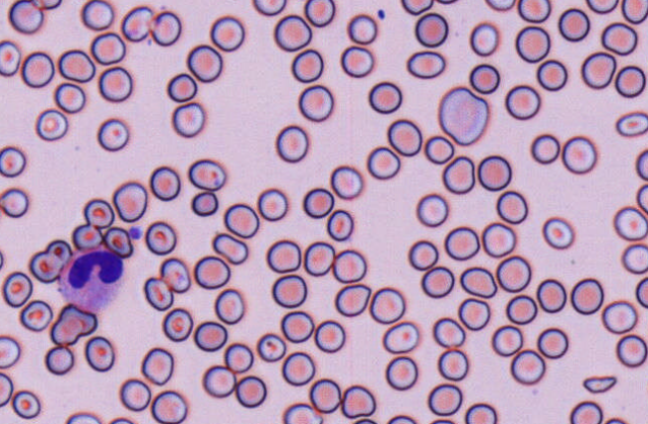GRAN: (56, 249, 122, 309)
PLT: (128, 223, 145, 240), (376, 9, 386, 20)
RBC: (438, 86, 488, 145), (112, 181, 147, 222), (273, 14, 311, 51), (561, 135, 597, 174), (369, 286, 405, 324), (580, 51, 616, 89), (186, 44, 222, 82), (387, 118, 422, 156), (209, 15, 245, 51), (504, 84, 540, 120), (223, 202, 259, 238), (515, 25, 550, 62), (496, 255, 531, 292), (298, 84, 333, 121), (442, 155, 475, 194), (510, 348, 545, 384), (193, 255, 230, 289), (477, 154, 511, 191), (57, 49, 95, 82), (275, 124, 308, 162), (613, 206, 648, 241), (601, 300, 637, 334), (601, 21, 637, 55), (90, 31, 126, 65), (340, 384, 376, 418), (481, 221, 515, 257), (98, 66, 132, 102), (171, 101, 205, 137), (150, 390, 187, 423), (21, 51, 54, 88), (570, 277, 603, 314), (188, 158, 225, 191), (141, 347, 173, 385), (459, 266, 497, 298), (8, 0, 43, 34), (281, 351, 315, 386), (414, 12, 448, 47), (332, 248, 366, 283), (266, 239, 301, 273), (444, 226, 479, 260), (334, 283, 370, 316), (271, 274, 307, 307), (366, 145, 400, 179), (427, 383, 462, 416), (308, 378, 341, 413), (330, 164, 363, 199), (149, 10, 181, 46), (212, 232, 248, 264), (382, 321, 418, 353), (202, 364, 235, 398), (420, 265, 454, 298), (415, 193, 448, 227), (385, 355, 417, 390), (303, 241, 335, 276), (159, 257, 190, 293), (149, 165, 180, 201), (406, 50, 445, 78), (29, 250, 62, 283), (457, 297, 490, 330), (35, 108, 68, 141), (615, 333, 647, 367), (280, 310, 314, 342), (558, 7, 590, 41), (368, 81, 402, 113), (291, 48, 323, 82), (2, 271, 32, 307), (214, 288, 244, 324), (84, 335, 114, 371), (119, 378, 151, 411), (19, 299, 52, 331), (340, 45, 373, 77), (542, 216, 574, 249), (97, 118, 129, 151), (496, 190, 527, 224), (162, 307, 193, 341), (193, 320, 227, 351), (257, 187, 288, 221), (469, 21, 499, 56), (536, 278, 566, 313), (491, 324, 523, 356), (235, 375, 266, 408), (437, 348, 468, 381), (432, 317, 465, 348), (314, 319, 345, 352), (145, 221, 176, 254), (143, 276, 173, 310), (80, 0, 114, 30), (536, 59, 567, 91), (302, 187, 334, 218), (407, 239, 438, 270), (54, 82, 85, 113), (469, 63, 500, 94), (537, 327, 568, 358), (505, 294, 537, 324), (615, 65, 645, 97), (83, 198, 114, 228), (223, 342, 253, 373), (530, 133, 560, 164), (166, 72, 197, 102), (347, 13, 377, 44), (424, 134, 454, 164), (256, 332, 286, 362), (44, 345, 74, 375), (326, 208, 353, 241), (11, 389, 40, 419), (0, 187, 28, 218), (282, 402, 322, 423), (621, 243, 648, 274), (304, 0, 335, 27), (0, 145, 26, 177), (615, 111, 647, 137), (72, 223, 102, 250), (569, 400, 602, 424), (0, 39, 20, 76), (517, 0, 550, 22), (190, 191, 218, 216), (464, 402, 497, 423), (45, 239, 72, 264), (0, 335, 20, 368), (621, 0, 648, 24), (252, 0, 286, 15), (401, 0, 433, 15), (585, 0, 619, 14), (0, 372, 13, 407), (635, 276, 648, 308), (635, 148, 648, 180), (65, 412, 101, 423), (636, 183, 648, 214), (484, 0, 515, 11), (386, 414, 416, 423), (41, 0, 62, 9), (602, 417, 629, 424), (108, 416, 135, 423), (351, 417, 377, 423), (428, 418, 456, 423), (435, 0, 459, 4), (0, 249, 4, 270), (645, 375, 648, 398)
Schistocyte: (58, 304, 98, 336), (120, 5, 153, 43), (105, 226, 134, 260), (582, 374, 617, 395)
